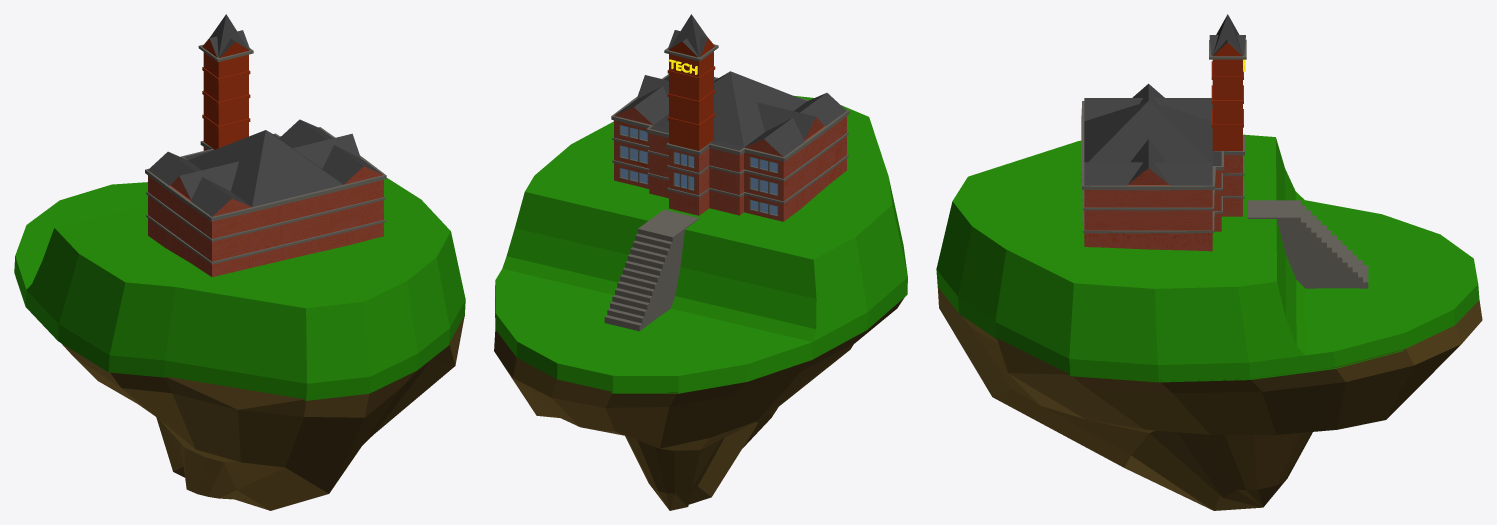
File: techtowerisland.glb
3 views of the same model, side by side, from view 1: azimuth 30°, elevation 25°; view 2: azimuth 150°, elevation 25°; view 3: azimuth 270°, elevation 25° (orthographic).
Parts seen in each view (by area): view 1: Cylinder.001, Cube, Cylinder; view 2: Cylinder.001, Cube, Cylinder, Cube.001; view 3: Cylinder.001, Cylinder, Cube, Cube.001.
Part boxes in pixels (<box>): Cylinder.001: <box>14,178,465,400</box>; Cube: <box>145,14,386,277</box>; Cylinder: <box>61,315,464,510</box>; Cylinder.001: <box>495,96,907,393</box>; Cube: <box>611,14,849,221</box>; Cylinder: <box>494,297,904,510</box>; Cube.001: <box>604,209,698,331</box>; Cylinder.001: <box>936,134,1479,382</box>; Cylinder: <box>937,287,1482,510</box>; Cube: <box>1081,14,1246,251</box>; Cube.001: <box>1248,200,1368,288</box>.
Size of the model in its own units: 9.75 by 13.26 by 13.35.
